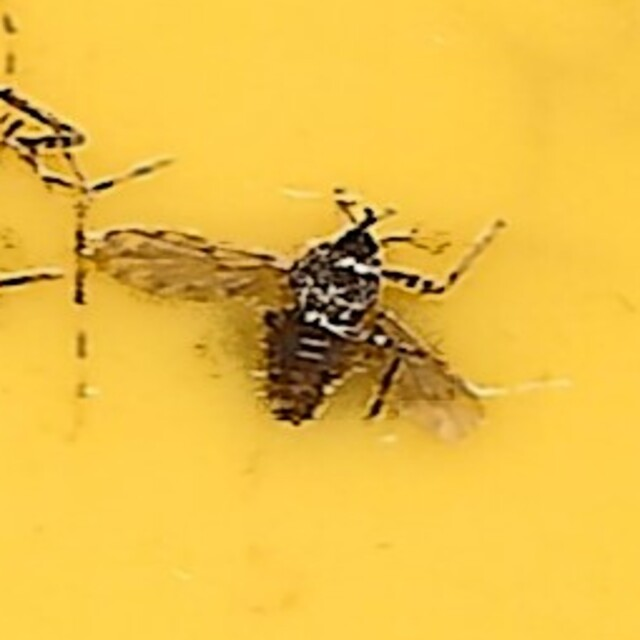Nematocera: (251, 218, 389, 422)
